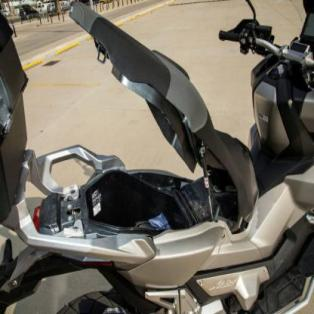Motocicleta: (2, 0, 313, 313)
